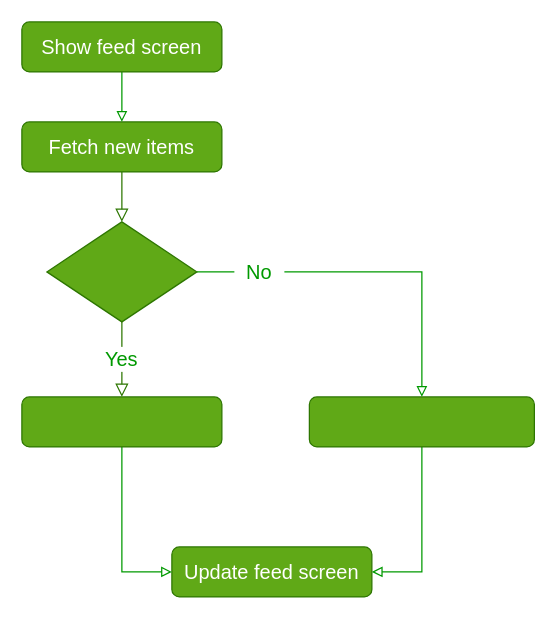
The diagram is 556 pixels wide and 619 high, and some of its shapes have lost their labels. The shapes that lost their labels are listed below. From the top down, each one's centre as x and y in pixels, then its label:
At pixel 121 271: "Success?".
At pixel 121 421: "Cache new items".
At pixel 421 421: "Load items from cache".
